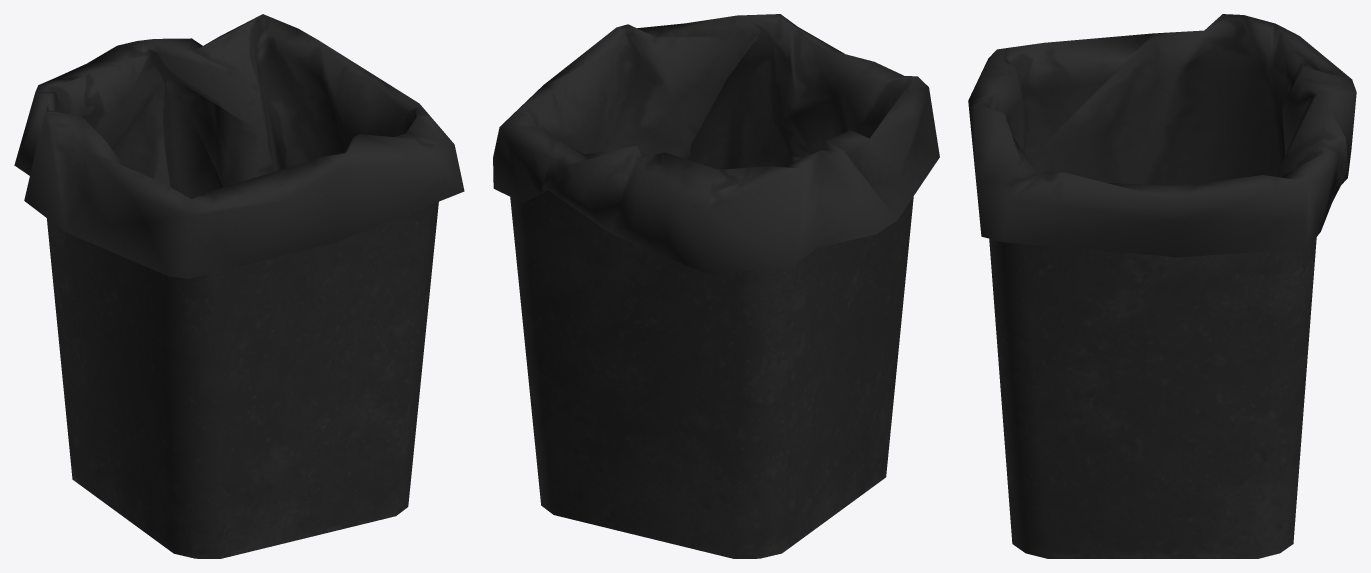
The model's file is TrashCanA.fbx.
The picture shows the model from 3 angles, left to right: view 1: azimuth 30°, elevation 25°; view 2: azimuth 150°, elevation 25°; view 3: azimuth 270°, elevation 25°; orthographic projection. The views are drawn at different scales.
Visible parts, largest first — view 1: TrashCanA_LOD0; view 2: TrashCanA_LOD0; view 3: TrashCanA_LOD0.
Part boxes in pixels (x1,y1,x2,y2): TrashCanA_LOD0: [14, 14, 464, 558]; TrashCanA_LOD0: [493, 14, 939, 558]; TrashCanA_LOD0: [968, 14, 1356, 558].
Size of what is drawn, in the model's own units: 34.39 by 38.13 by 32.79.
